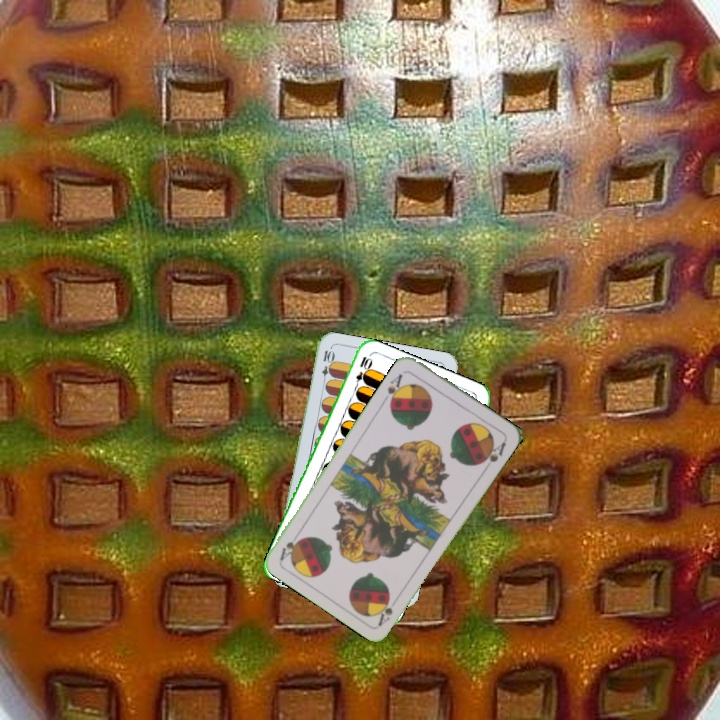E10: (350, 352, 372, 392), (317, 346, 335, 387)
SA: (380, 370, 407, 407), (374, 593, 395, 628)
